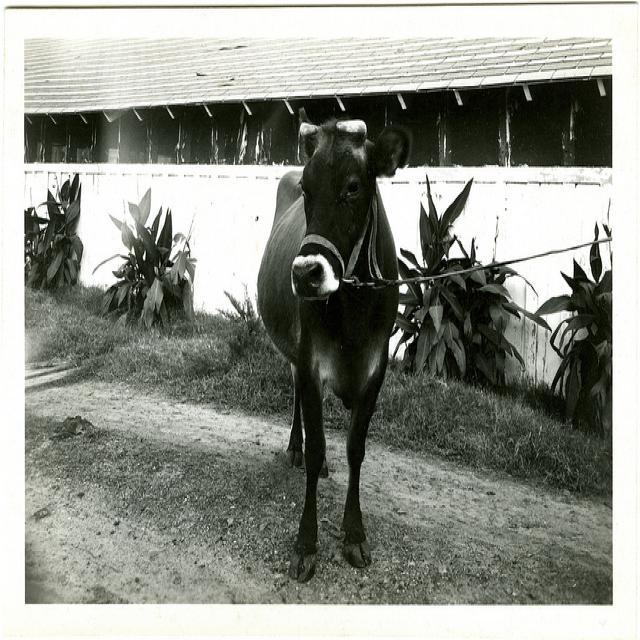cow: (251, 110, 427, 577)
